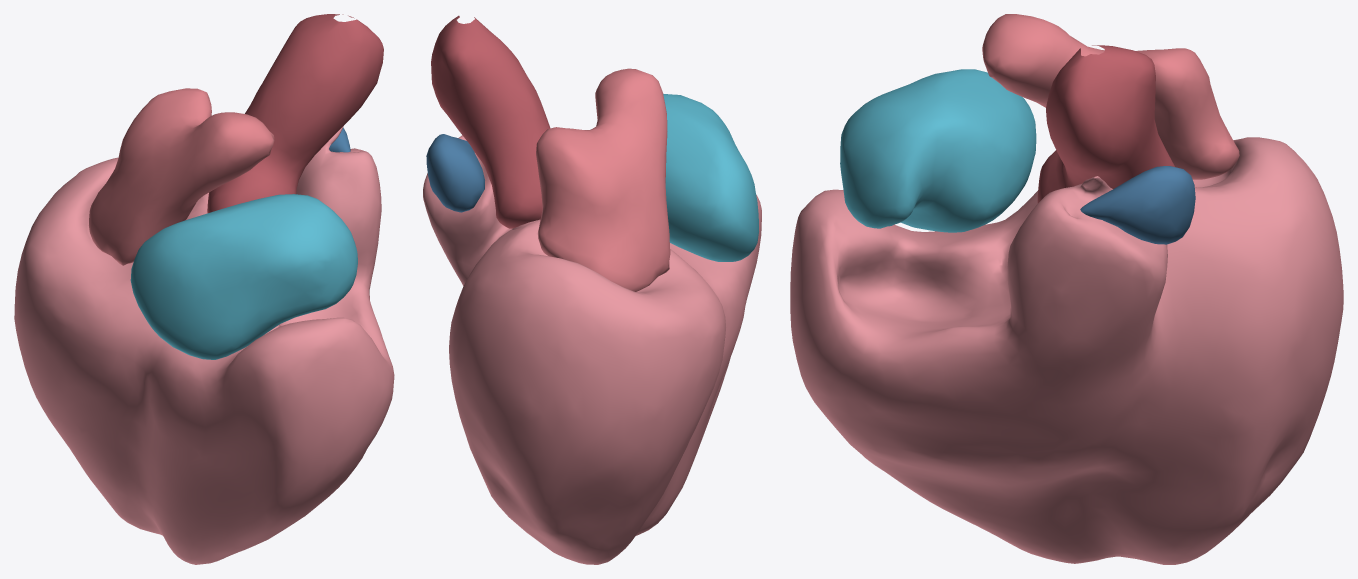
Rendered from frame_6.glb.
The picture shows the model from 3 angles, left to right: view 1: azimuth 30°, elevation 25°; view 2: azimuth 150°, elevation 25°; view 3: azimuth 270°, elevation 25°; orthographic projection. The views are drawn at different scales.
Visible parts, largest first — view 1: Renderer Node; view 2: Renderer Node; view 3: Renderer Node.
Part boxes in pixels (box(x1,y1,x2,y2)): Renderer Node: box(14, 14, 394, 564); Renderer Node: box(423, 15, 761, 564); Renderer Node: box(790, 14, 1343, 564).
Bounding box in the file's own units: 107 × 164 × 136.
